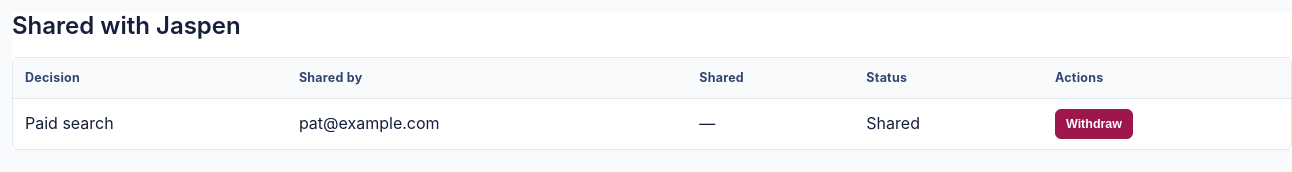
Scenario: SharedWithJaspenList › Withdraw calls the decision-share DELETE client
The image size is (1292, 172).
Expected: the text "Paid search" is shown, [13,98,287,149]
Expected: the text "pat@example.com" is shown, [287,98,687,149]
Click the button "Withdraw": (1094,124) [1055,109,1133,139]
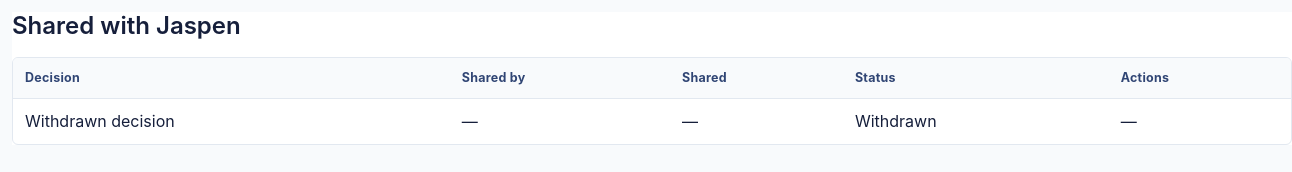
Result: the text "Withdrawn" is shown at [843,98,1109,144]
